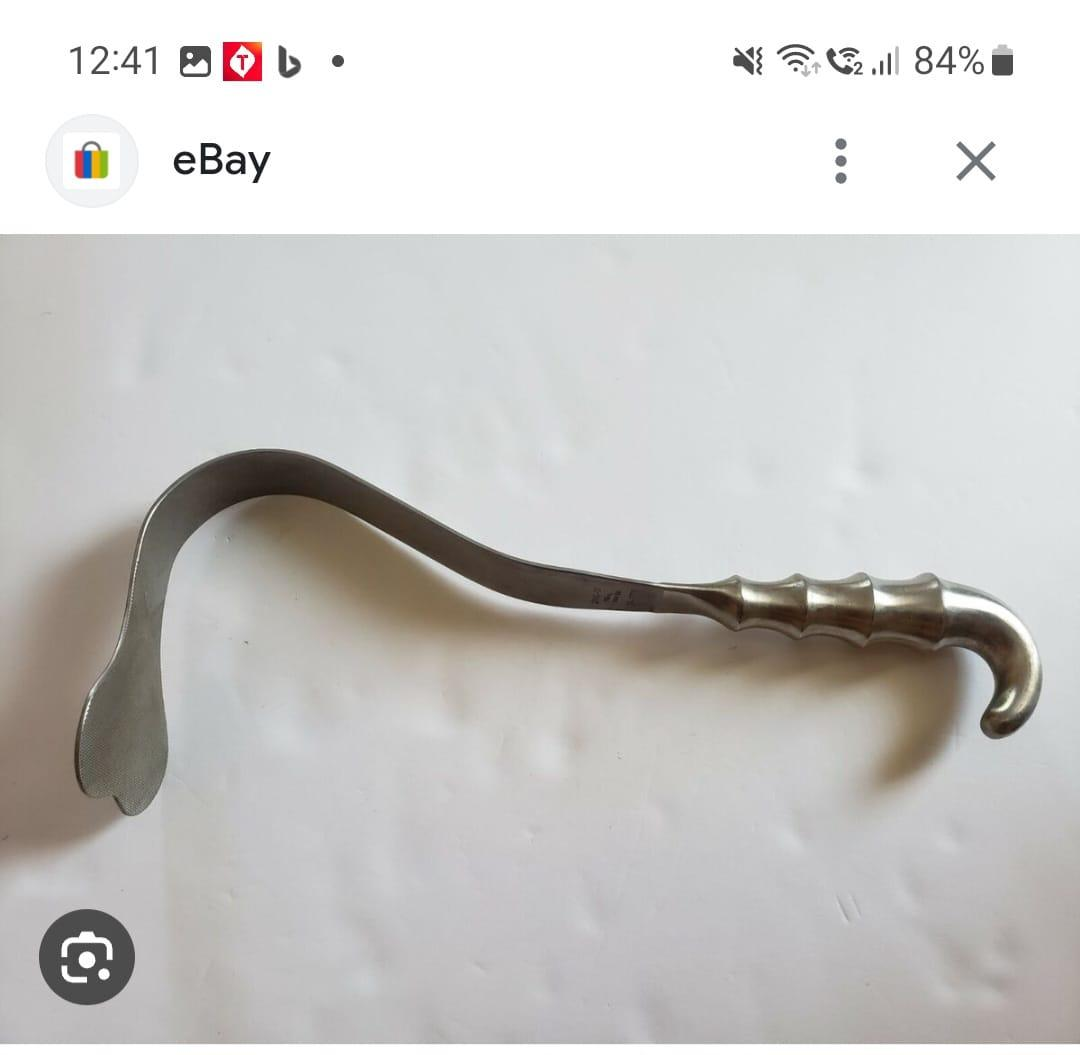Harrington Retractor: (63, 427, 1057, 828)
